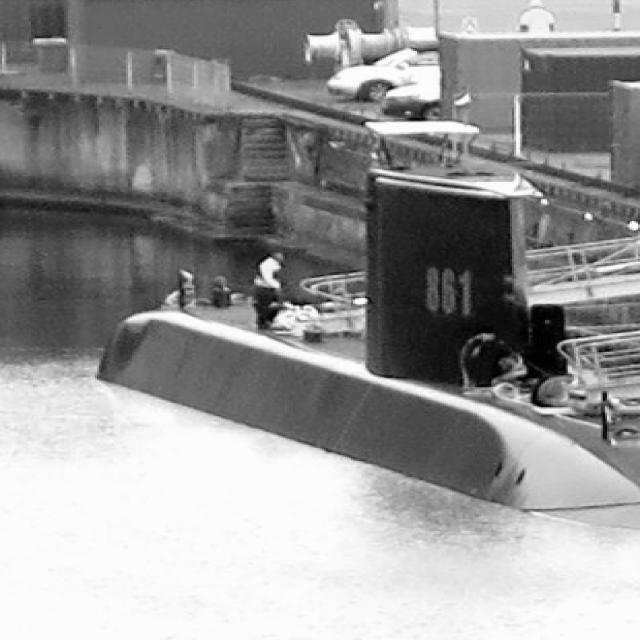submarine: (98, 168, 640, 567)
